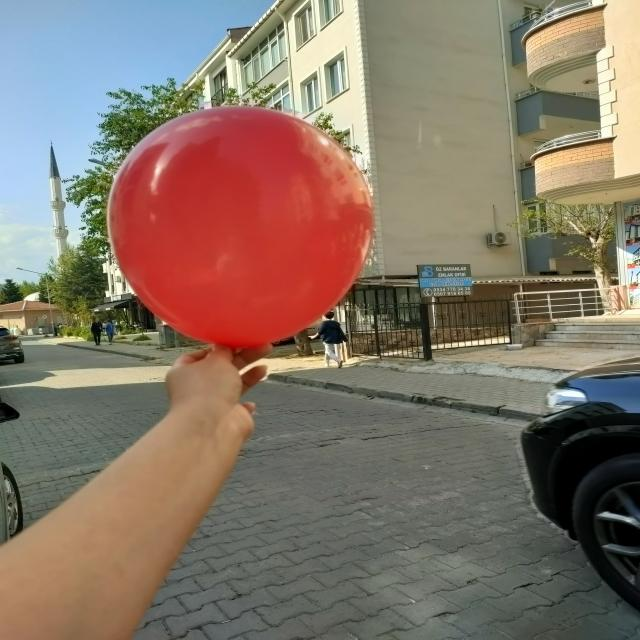red: (112, 106, 373, 350)
